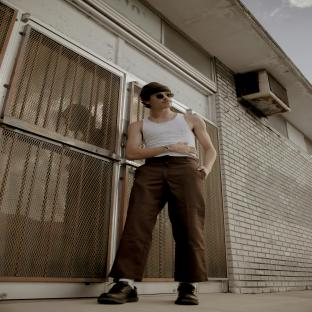Human: (98, 82, 216, 305)
